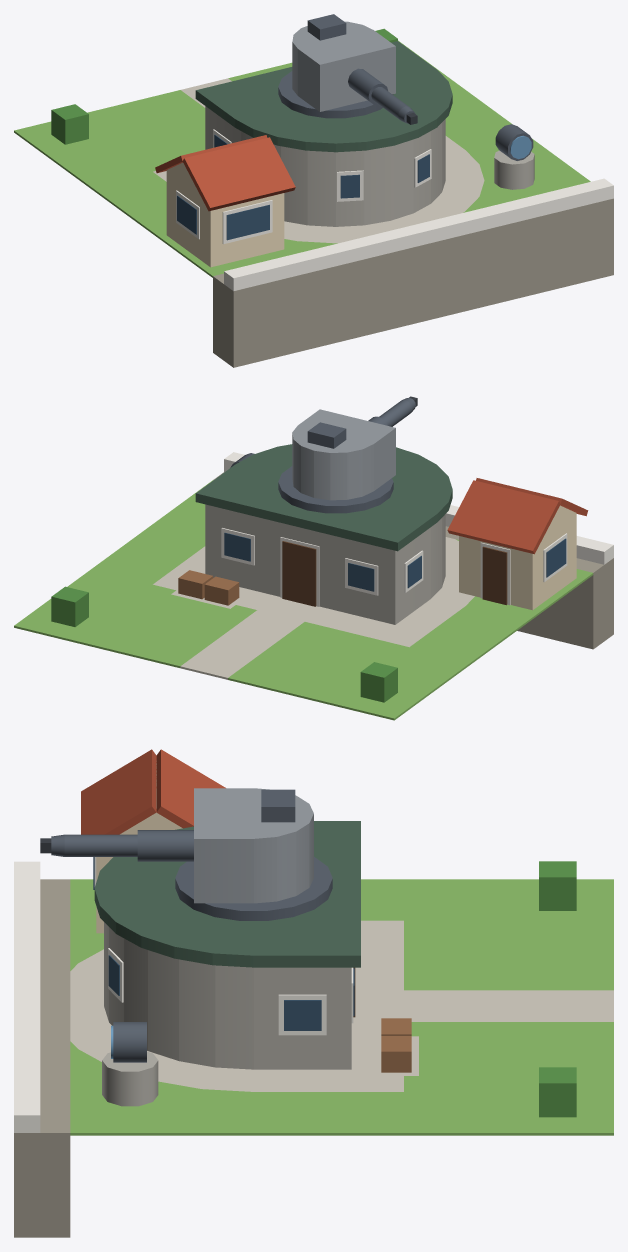
File: coastalgun.glb
The picture shows the model from 3 angles, top to bottom: view 1: azimuth 30°, elevation 25°; view 2: azimuth 150°, elevation 25°; view 3: azimuth 270°, elevation 25°; orthographic projection. The views are drawn at different scales.
Visible parts, largest first — view 1: quay, lawn (×2), roof (×3), gun_house, quay_edge, turret, apron, lookout_hut, window_glass (×2), turret_ring, barrel, searchlight_base (+4 smaller); view 2: lawn (×2), roof (×3), gun_house, apron, turret, lookout_hut, quay, door (×2), tree_spot (×2), turret_ring, window_glass (×3), crate (×2) (+5 smaller); view 3: lawn (×2), roof (×3), apron, gun_house, quay, turret, quay_edge, tree_spot (×2), barrel, turret_ring, searchlight_base, searchlight (+5 smaller).
Boxes of the visible parts, <box> form: quay: <box>213,198,613,367</box>; lawn (×2): <box>14,40,590,277</box>; roof (×3): <box>155,41,452,211</box>; gun_house: <box>205,106,445,226</box>; quay_edge: <box>224,178,613,291</box>; turret: <box>292,21,395,111</box>; apron: <box>153,78,484,243</box>; lookout_hut: <box>166,163,284,267</box>; window_glass (×2): <box>177,195,269,240</box>; turret_ring: <box>278,71,393,118</box>; barrel: <box>348,68,415,123</box>; searchlight_base: <box>494,150,534,189</box>; lawn (×2): <box>14,480,593,720</box>; roof (×3): <box>195,444,588,554</box>; gun_house: <box>205,504,445,624</box>; apron: <box>153,537,474,679</box>; turret: <box>292,409,395,500</box>; lookout_hut: <box>459,505,576,610</box>; quay: <box>213,472,613,649</box>; door (×2): <box>282,541,507,606</box>; tree_spot (×2): <box>51,586,397,702</box>; turret_ring: <box>278,466,393,513</box>; window_glass (×3): <box>224,532,566,591</box>; crate (×2): <box>178,570,239,605</box>; lawn (×2): <box>70,879,613,1135</box>; roof (×3): <box>81,749,360,967</box>; apron: <box>70,920,613,1091</box>; gun_house: <box>104,922,351,1069</box>; quay: <box>14,879,70,1237</box>; turret: <box>194,788,313,903</box>; quay_edge: <box>14,861,40,1132</box>; tree_spot (×2): <box>539,861,576,1117</box>; barrel: <box>51,830,193,861</box>; turret_ring: <box>175,857,332,920</box>; searchlight_base: <box>102,1051,158,1106</box>; searchlight: <box>113,1022,146,1062</box>.
Size of the model in its own units: 16 by 9.2 by 16.
